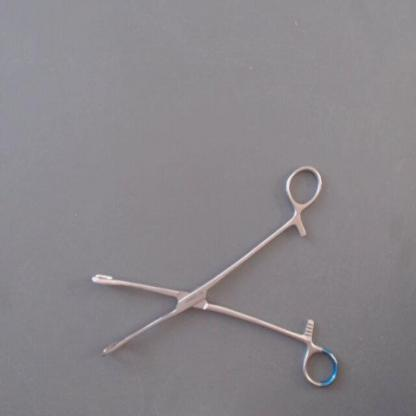Sponge Forceps: (80, 155, 348, 400)
